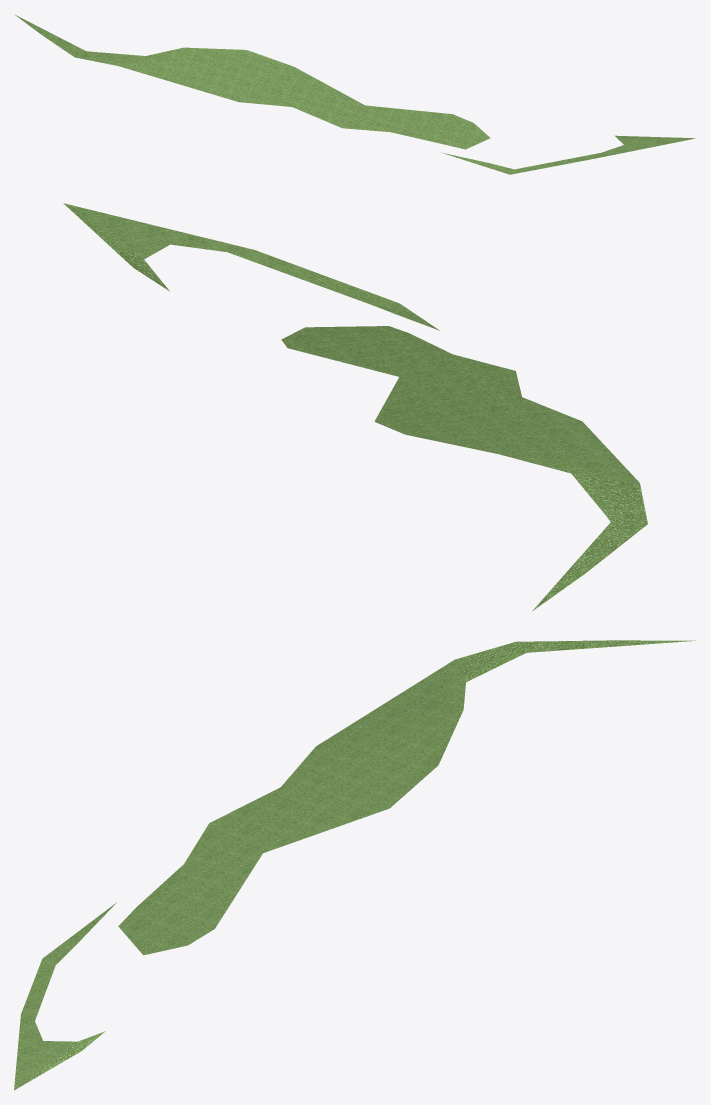
The model's file is kd_stage_135ebf_4_3.glb.
3 views of the same model, one above another, from view 1: azimuth 30°, elevation 25°; view 2: azimuth 150°, elevation 25°; view 3: azimuth 270°, elevation 25° (orthographic). The views are drawn at different scales.
Visible parts, largest first — view 1: kd_stage_135ebf_4_3; view 2: kd_stage_135ebf_4_3; view 3: kd_stage_135ebf_4_3.
Boxes of the visible parts, x1,y1,x2,y2 form: kd_stage_135ebf_4_3: [15, 15, 695, 174]; kd_stage_135ebf_4_3: [63, 203, 647, 610]; kd_stage_135ebf_4_3: [14, 640, 695, 1090].
Bounding box in the file's own units: 75.02 × 11.5 × 63.49.
Materials: 1 (1 with a texture image).
